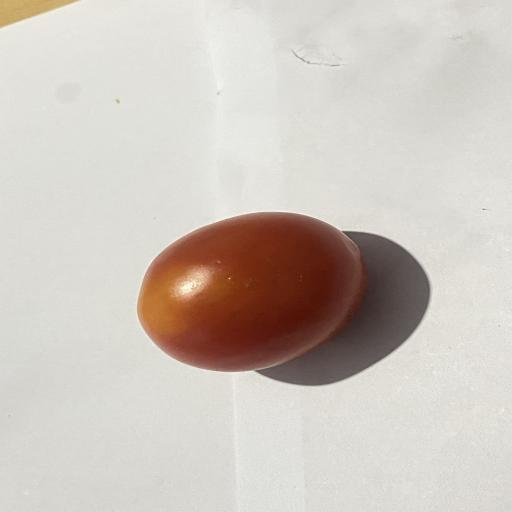ripe: (137, 212, 366, 372)
